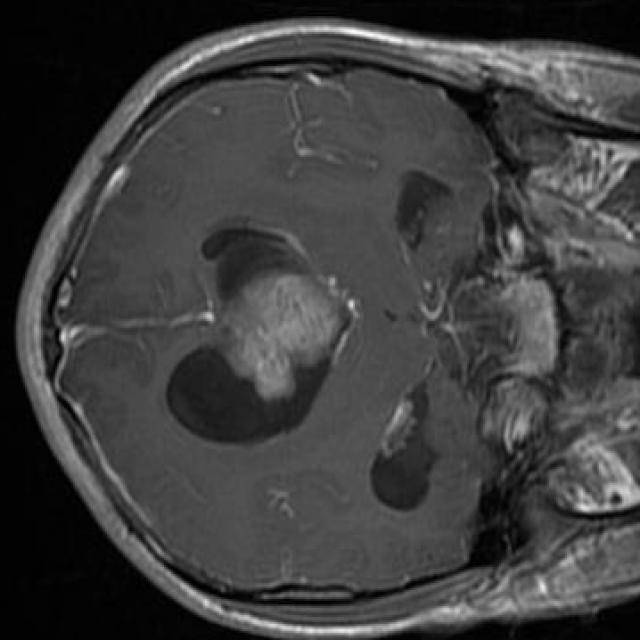glioma: (168, 228, 358, 444)
